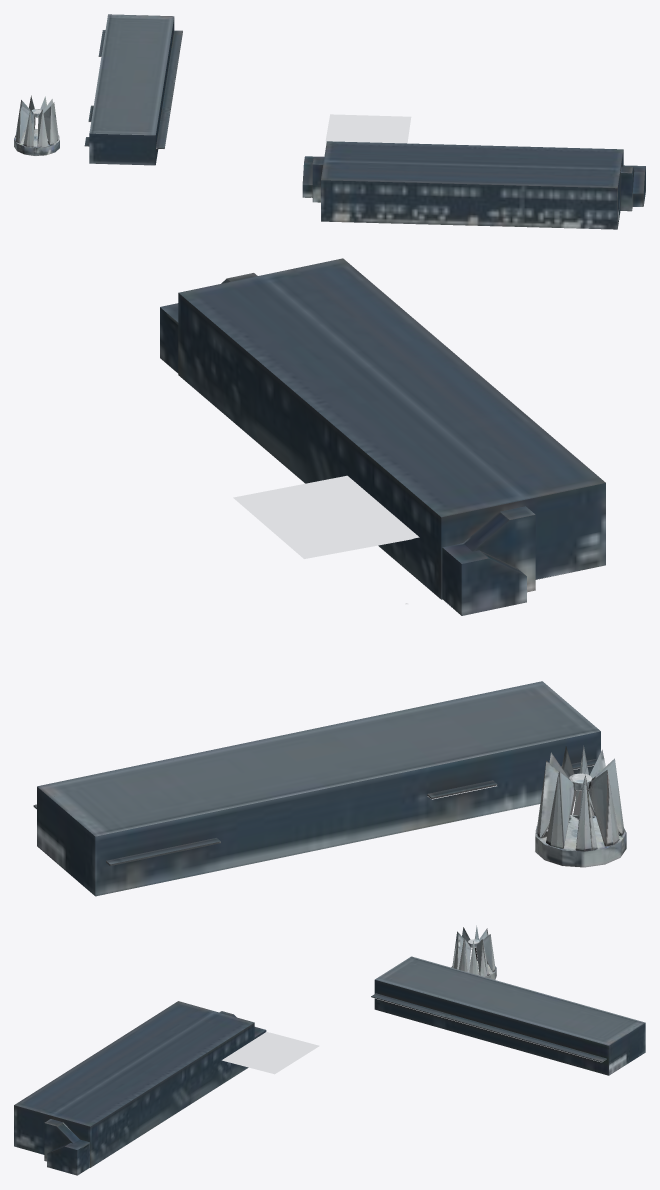
The picture shows the model from 3 angles, top to bottom: view 1: azimuth 30°, elevation 25°; view 2: azimuth 150°, elevation 25°; view 3: azimuth 270°, elevation 25°; orthographic projection. The views are drawn at different scales.
Parts seen in each view (by area): view 1: Buildings_建物パビリオン; view 2: Buildings_建物パビリオン; view 3: Buildings_建物パビリオン.
Boxes of the visible parts, <box> form: Buildings_建物パビリオン: <box>14,14,645,229</box>; Buildings_建物パビリオン: <box>33,258,626,896</box>; Buildings_建物パビリオン: <box>14,925,645,1175</box>.
Size of the model in its own units: 84.99 by 8.51 by 109.
4 materials, 3 textured.
